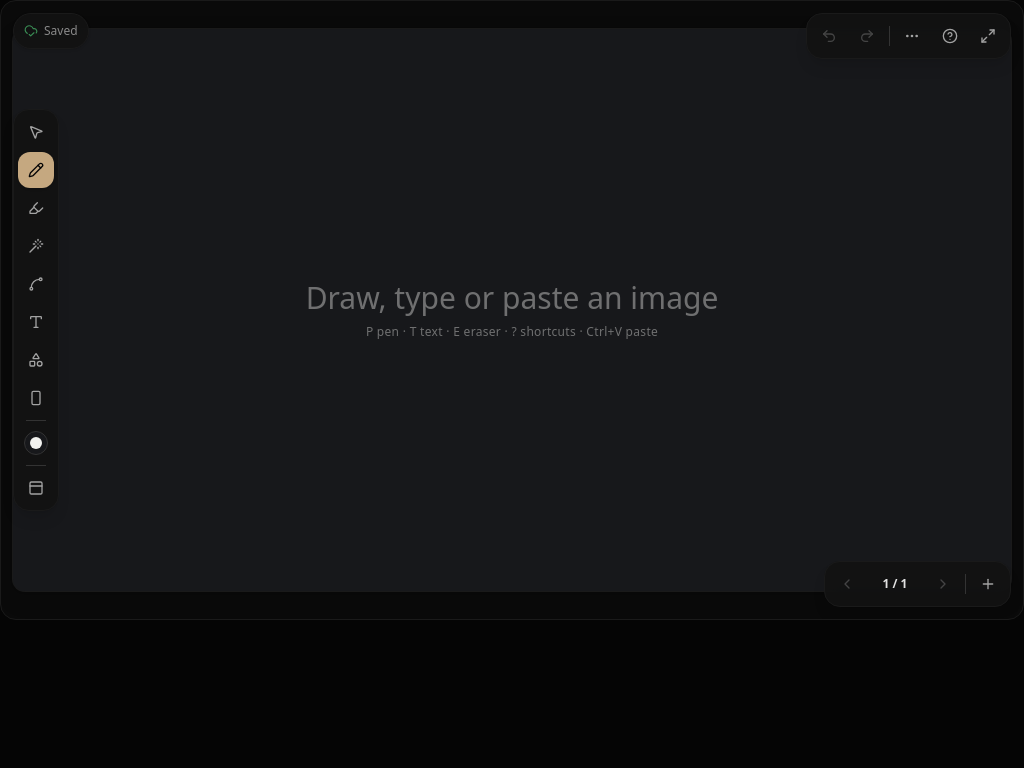
Test: ClassroomBoard Component (SDD/2026-10-03_07-lousa-virtual.md) › CT04 / CA04: toggles Expand board and Collapse board
Click the button named "Expand board": (988, 36) [970,18,1006,54]
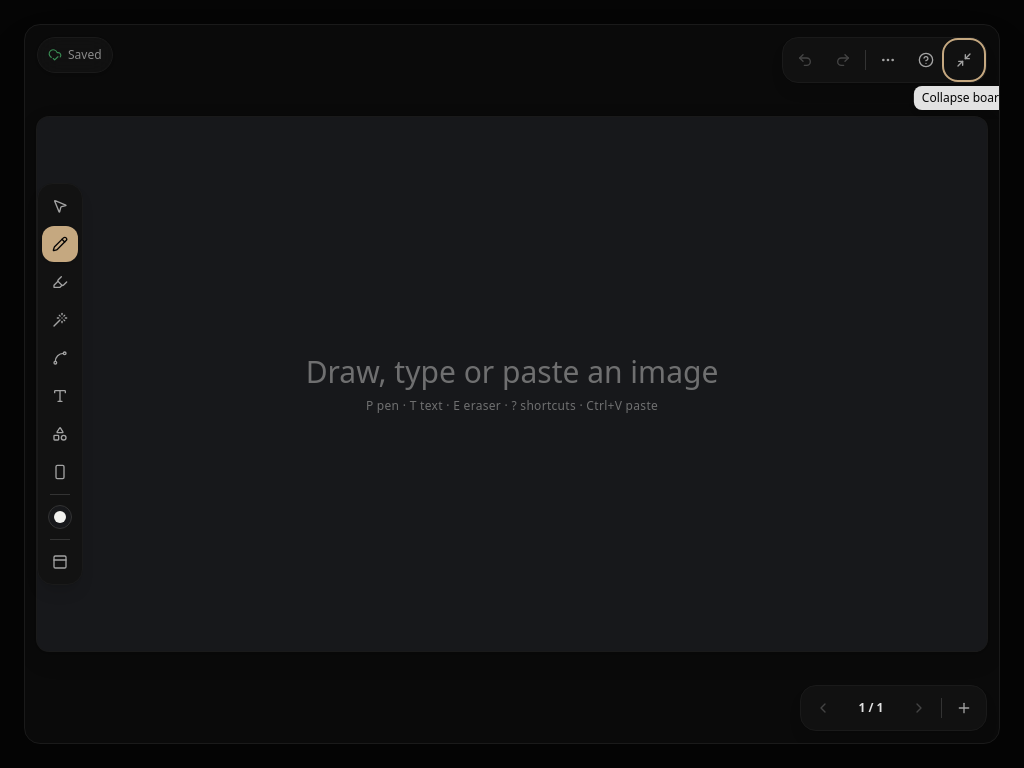
Now the button "Collapse board" is shown
Click the button "Collapse board": (964, 60) [946,42,982,78]
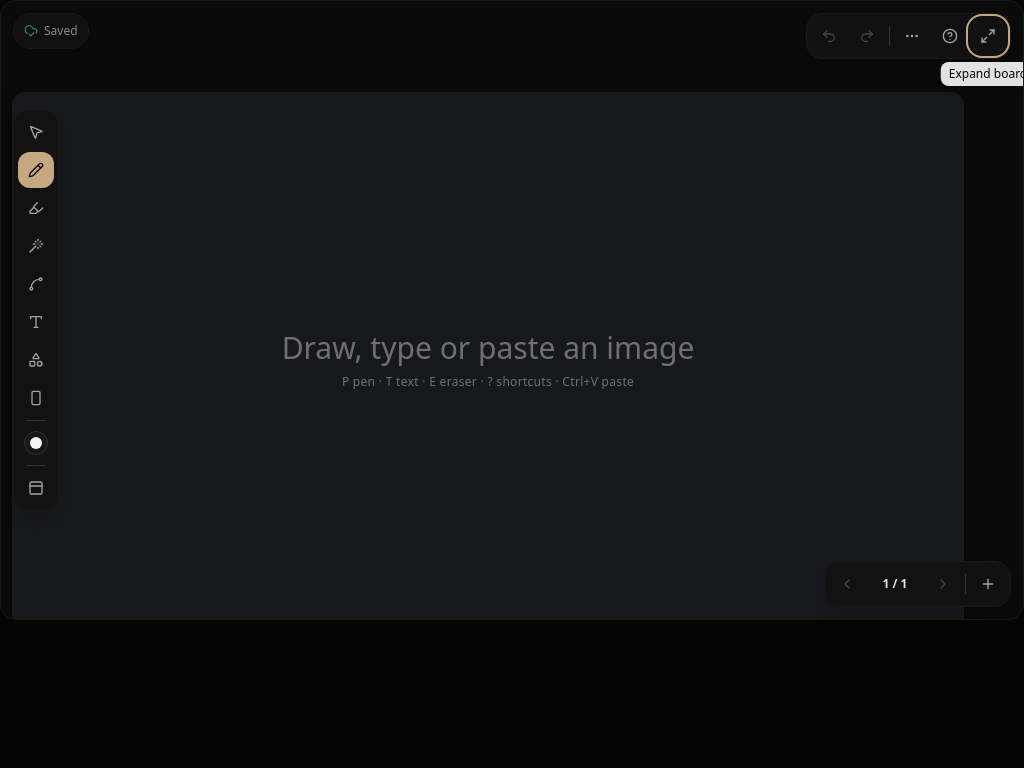
Now the button "Expand board" is shown, box [970,18,1006,54]
